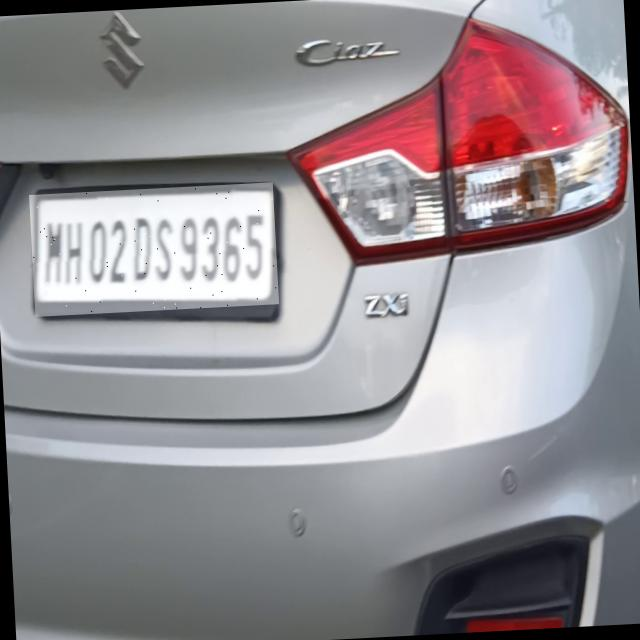Plate: (30, 184, 280, 319)
